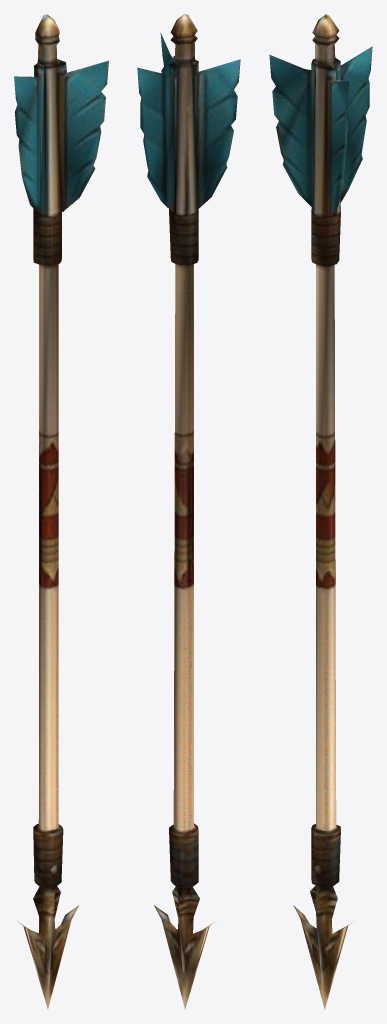
File: ShamanArrow.glb
3 views of the same model, side by side, from view 1: azimuth 30°, elevation 25°; view 2: azimuth 150°, elevation 25°; view 3: azimuth 330°, elevation 25° (orthographic).
Parts seen in each view (by area): view 1: tripo_node_c2ebc9e2-421e-4961-9598-5aba5c21ec5d; view 2: tripo_node_c2ebc9e2-421e-4961-9598-5aba5c21ec5d; view 3: tripo_node_c2ebc9e2-421e-4961-9598-5aba5c21ec5d.
Boxes of the visible parts, <box> form: tripo_node_c2ebc9e2-421e-4961-9598-5aba5c21ec5d: <box>14,14,108,1009</box>; tripo_node_c2ebc9e2-421e-4961-9598-5aba5c21ec5d: <box>137,14,240,1009</box>; tripo_node_c2ebc9e2-421e-4961-9598-5aba5c21ec5d: <box>269,14,372,1009</box>.
Size of the model in its own units: 0.0918 by 0.998 by 0.0762.
Materials: 1 (1 with a texture image).
